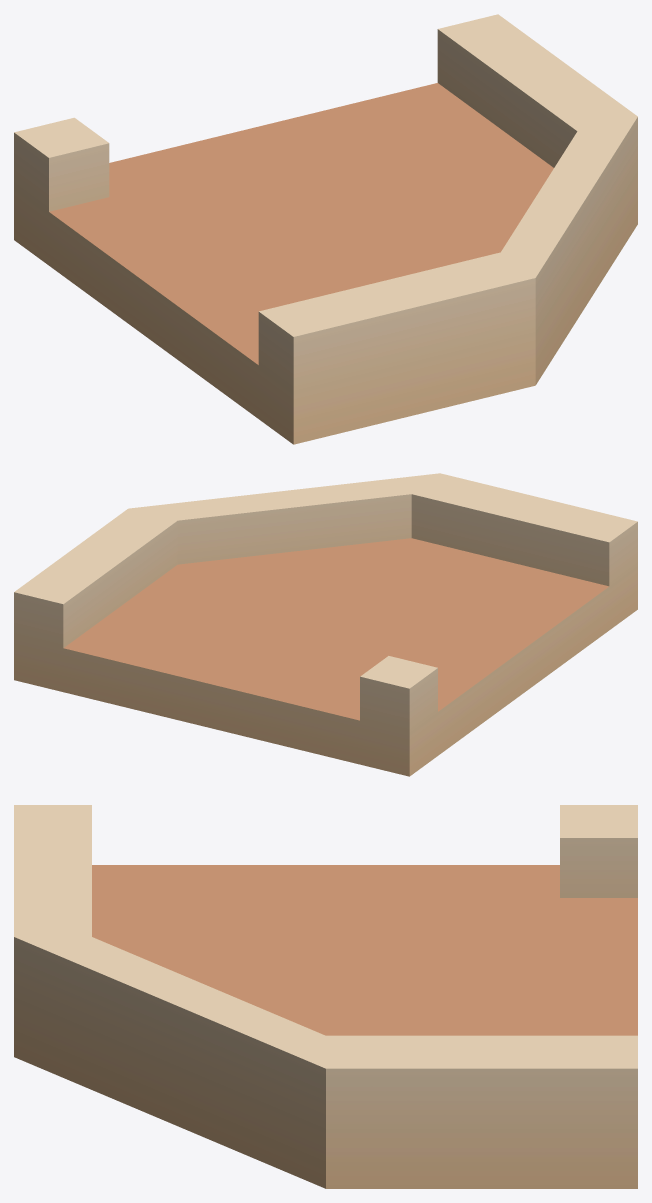
Rendered from kenney-modular-buildings-roof-flat-border-corner-slanted-passage.glb.
The picture shows the model from 3 angles, top to bottom: view 1: azimuth 30°, elevation 25°; view 2: azimuth 150°, elevation 25°; view 3: azimuth 270°, elevation 25°; orthographic projection. The views are drawn at different scales.
Parts seen in each view (by area): view 1: roof-flat-border-corner-slanted-passage; view 2: roof-flat-border-corner-slanted-passage; view 3: roof-flat-border-corner-slanted-passage.
Boxes of the visible parts, x1,y1,x2,y2 form: roof-flat-border-corner-slanted-passage: (14, 14, 637, 444); roof-flat-border-corner-slanted-passage: (14, 473, 637, 776); roof-flat-border-corner-slanted-passage: (14, 805, 637, 1188).
Size of the model in its own units: 1 by 0.2125 by 1.
1 material, 1 textured.
